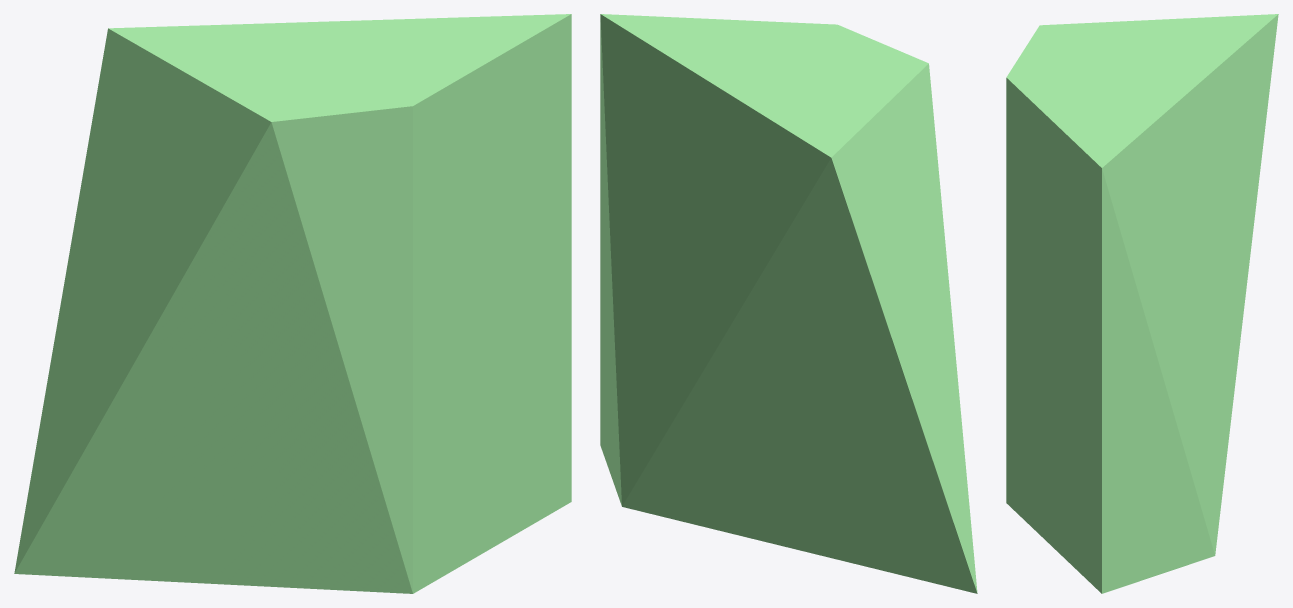
File: dvkr_robot_Lp11_respondable_PSM2_coll_8.dae
3 renders of one model, left to right at view 1: azimuth 30°, elevation 25°; view 2: azimuth 150°, elevation 25°; view 3: azimuth 270°, elevation 25°, orthographic. The views are drawn at different scales.
Parts seen in each view (by area): view 1: Node_0000023514CD9BB0; view 2: Node_0000023514CD9BB0; view 3: Node_0000023514CD9BB0.
Part boxes in pixels (x1,y1,x2,y2): Node_0000023514CD9BB0: (14,14,571,593); Node_0000023514CD9BB0: (600,14,977,593); Node_0000023514CD9BB0: (1006,14,1278,593).
Size of the model in its own units: 0.0137 by 0.013 by 0.00753.
